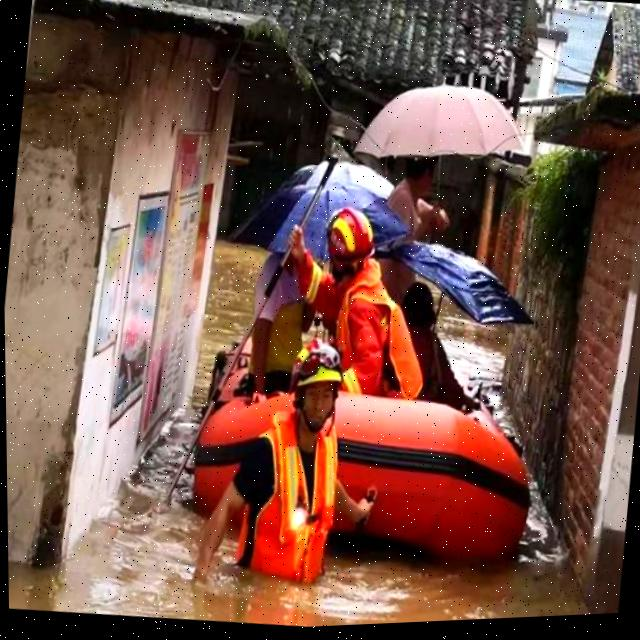civilian: (375, 255, 500, 432), (364, 143, 458, 319), (232, 225, 320, 403)
rescuer: (212, 303, 405, 629), (292, 198, 434, 412)
